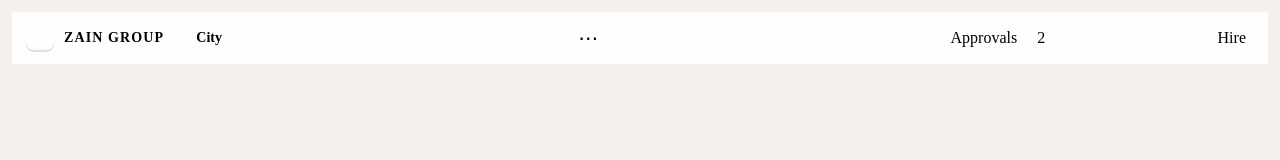
Test: Hud on a phone › keeps the main actions in the bar and moves Board into the overflow menu
expect the button with aria-label "Approvals, 2 pending" is shown: met, box [936, 20, 1071, 56]
expect the button "Hire" is shown: met, box [1204, 20, 1260, 56]
Click the button named "More" at x=588, y=38, box [570, 20, 606, 56]
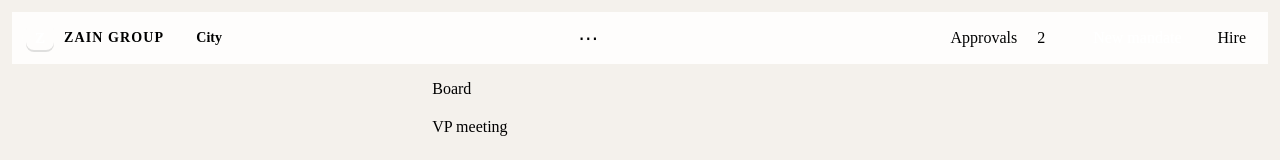
Click the button "Board" at x=510, y=89, box [420, 70, 600, 108]
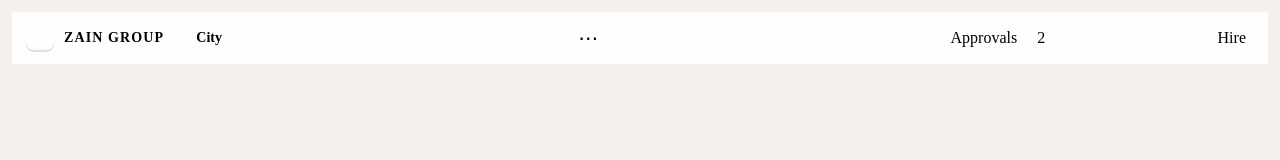
expect the button "Board" is gone: met
